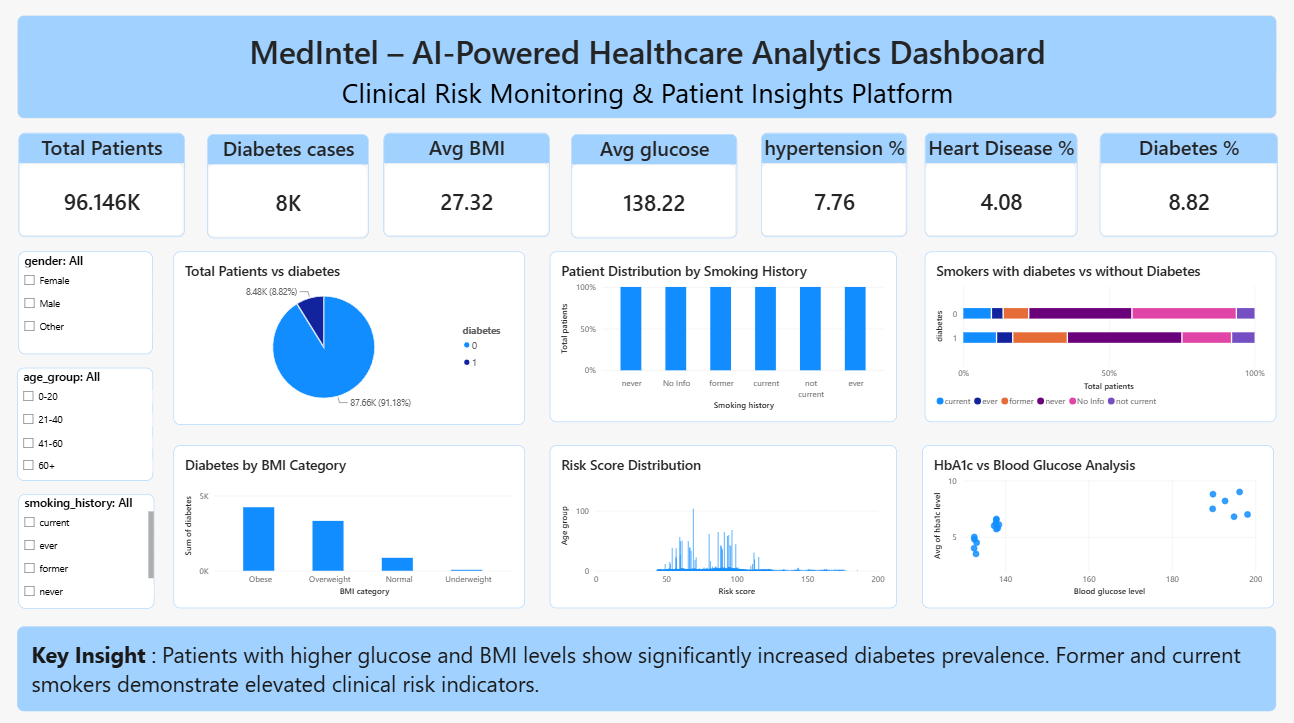

What the dashboard file says about the page in this screenshot:
{"tool":"powerbi","page":{"name":"Page 1","canvas":[1920,1080],"ordinal":0},"visuals":[{"type":"textbox","title":"MedIntel – AI-Powered Healthcare Analytics Dashboard","box":[31.8,31.8,1854.5,152.3],"z":0},{"type":"cardVisual","title":"Total Patients","fields":{"Data":["CountNonNull(cleaned_healthcare_data.Total Patients)"]},"box":[33.3,204.4,244.4,153.3],"z":1000},{"type":"cardVisual","title":"Diabetes cases","fields":{"Data":["Sum(cleaned_healthcare_data.diabetes)"]},"box":[311.1,206.7,237.8,153.3],"z":2000},{"type":"cardVisual","title":"Avg BMI","fields":{"Data":["Avg(cleaned_healthcare_data.Average BMI)"]},"box":[571.1,204.4,244.4,153.3],"z":3000},{"type":"cardVisual","title":"Avg glucose","fields":{"Data":["Avg(cleaned_healthcare_data.blood_glucose_level)"]},"box":[846.7,206.7,244.4,153.3],"z":4000},{"type":"cardVisual","title":"hypertension %","fields":{"Data":["cleaned_healthcare_data.Hypertension %"]},"box":[1126.7,204.4,215.6,153.3],"z":5000},{"type":"cardVisual","title":"Heart Disease %","fields":{"Data":["cleaned_healthcare_data.Heart Disease %"]},"box":[1366.7,204.4,224.4,153.3],"z":6000},{"type":"slicer","fields":{"Values":["cleaned_healthcare_data.gender"]},"box":[33.3,380,197.8,151.1],"z":7000},{"type":"slicer","fields":{"Values":["cleaned_healthcare_data.age_group"]},"box":[31.1,551.1,200,166.7],"z":8000},{"type":"slicer","fields":{"Values":["cleaned_healthcare_data.smoking_history"]},"box":[33.3,735.6,200,168.9],"z":9000},{"type":"textbox","box":[31.1,931.1,1853.3,124.4],"z":10000},{"type":"pieChart","title":"Total Patients vs diabetes","fields":{"Category":["cleaned_healthcare_data.diabetes"],"Y":["CountNonNull(cleaned_healthcare_data.Total Patients)"]},"box":[262.2,380,517.8,255.6],"z":11000},{"type":"hundredPercentStackedColumnChart","title":"Patient Distribution by Smoking History","fields":{"Y":["CountNonNull(cleaned_healthcare_data.Total Patients)"],"Category":["cleaned_healthcare_data.smoking_history"]},"box":[815.6,380,511.1,251.1],"z":12000},{"type":"clusteredColumnChart","title":"Diabetes by BMI Category","fields":{"Y":["Sum(cleaned_healthcare_data.diabetes)"],"Category":["cleaned_healthcare_data.bmi_category"]},"box":[262.2,664.4,517.8,240],"z":13000},{"type":"hundredPercentStackedBarChart","title":"Smokers with diabetes vs without Diabetes ","fields":{"Category":["cleaned_healthcare_data.diabetes"],"Y":["Sum(cleaned_healthcare_data.Total Patients)"],"Series":["cleaned_healthcare_data.smoking_history"]},"box":[1366.7,380,517.8,251.1],"z":15000},{"type":"scatterChart","title":"HbA1c vs Blood Glucose Analysis","fields":{"X":["Avg(cleaned_healthcare_data.blood_glucose_level)"],"Y":["cleaned_healthcare_data.hba1c_level"]},"box":[1364.4,664.4,517.8,240],"z":16000},{"type":"cardVisual","title":"Diabetes %","fields":{"Data":["Sum(cleaned_healthcare_data.Diabetes Rate %)"]},"box":[1624.4,204.4,262.2,153.3],"z":17000},{"type":"columnChart","title":"Risk Score Distribution","fields":{"Category":["cleaned_healthcare_data.risk_score"],"Y":["CountNonNull(cleaned_healthcare_data.age_group)"]},"box":[815.6,664.4,511.1,240],"z":18000}]}

Visuals, with their boxes in screenshot pixels (x1, y1, x2, y2), scaled from the page's 1920x1080 canvas onto the 1294x723 screenshot:
"MedIntel – AI-Powered Healthcare Analytics Dashboard" textbox: left=21, top=21, right=1271, bottom=123
"Total Patients" cardVisual: left=22, top=137, right=187, bottom=239
"Diabetes cases" cardVisual: left=210, top=138, right=370, bottom=241
"Avg BMI" cardVisual: left=385, top=137, right=550, bottom=239
"Avg glucose" cardVisual: left=571, top=138, right=735, bottom=241
"hypertension %" cardVisual: left=759, top=137, right=905, bottom=239
"Heart Disease %" cardVisual: left=921, top=137, right=1072, bottom=239
slicer - cleaned_healthcare_data.gender: left=22, top=254, right=156, bottom=356
slicer - cleaned_healthcare_data.age_group: left=21, top=369, right=156, bottom=481
slicer - cleaned_healthcare_data.smoking_history: left=22, top=492, right=157, bottom=606
textbox: left=21, top=623, right=1270, bottom=707
"Total Patients vs diabetes" pieChart: left=177, top=254, right=526, bottom=425
"Patient Distribution by Smoking History" hundredPercentStackedColumnChart: left=550, top=254, right=894, bottom=422
"Diabetes by BMI Category" clusteredColumnChart: left=177, top=445, right=526, bottom=605
"Smokers with diabetes vs without Diabetes " hundredPercentStackedBarChart: left=921, top=254, right=1270, bottom=422
"HbA1c vs Blood Glucose Analysis" scatterChart: left=920, top=445, right=1269, bottom=605
"Diabetes %" cardVisual: left=1095, top=137, right=1271, bottom=239
"Risk Score Distribution" columnChart: left=550, top=445, right=894, bottom=605
